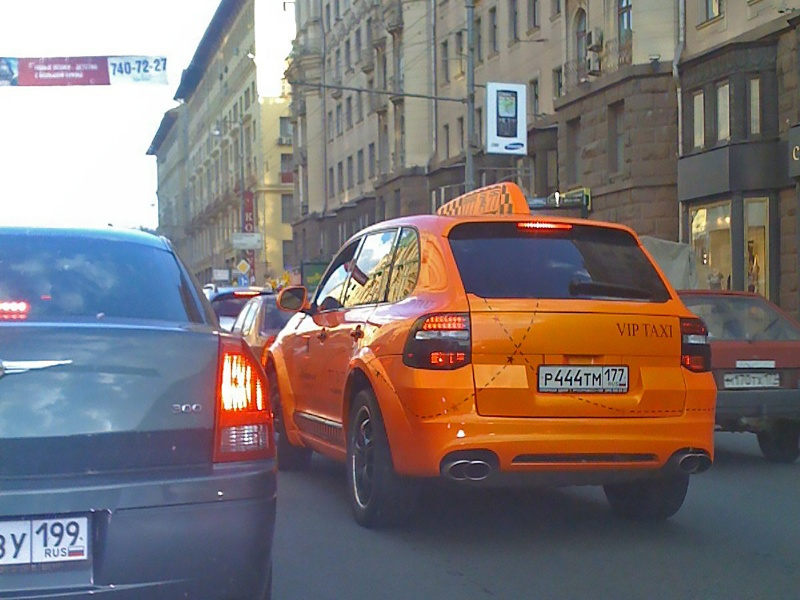car: (261, 181, 718, 527), (1, 226, 278, 600), (674, 288, 800, 461), (229, 296, 297, 347), (202, 286, 276, 330)
plate: (1, 516, 90, 565), (538, 365, 628, 393), (724, 373, 780, 386)
